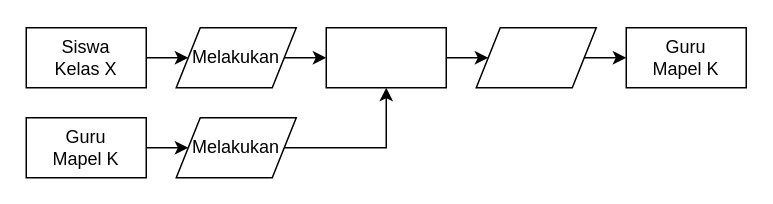
Some shapes in this 773 by 204 pixel diagram are drawn without their labels. The shapes that lost their labels are listed below. From the top down, each one's centre as x and y in pixels, then its label:
point 385,57: Kegiatan Belajar Mengajar
point 535,57: Siswa Dinilai
